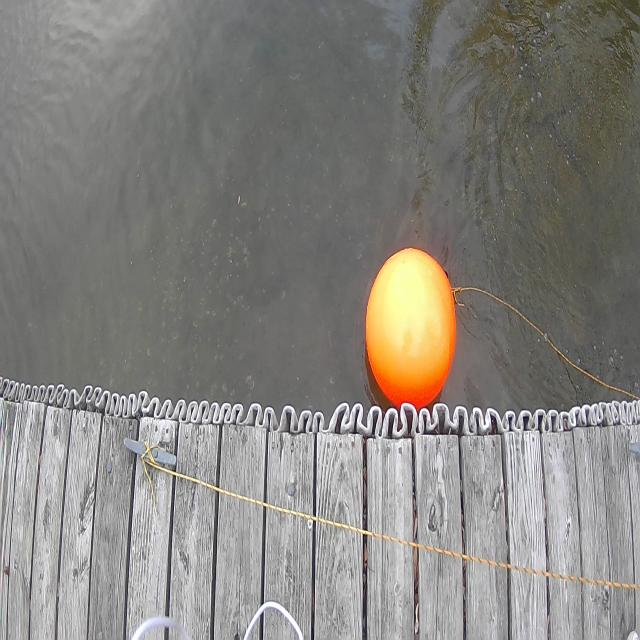Buoy: (363, 244, 459, 412)
